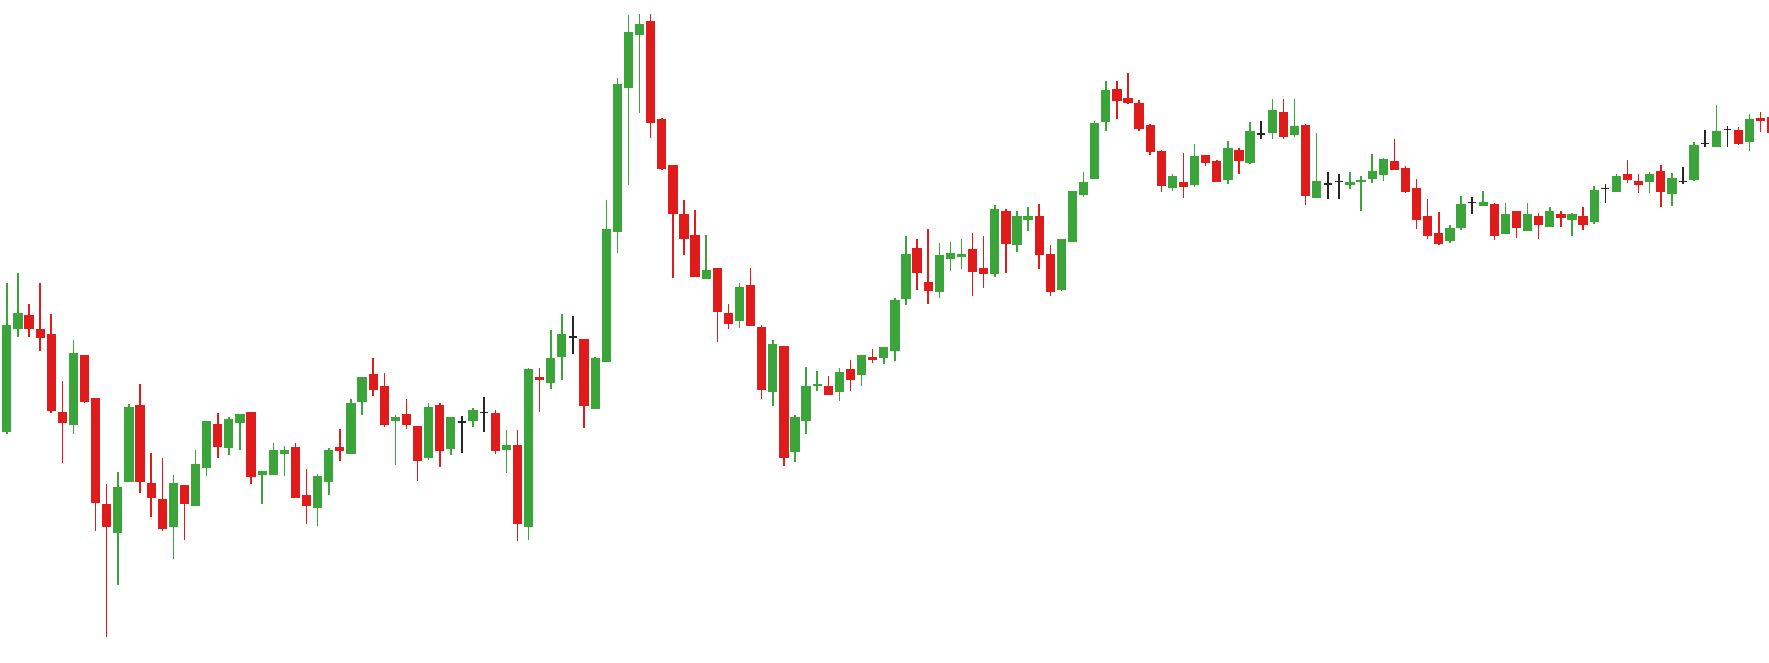buy: (301, 433, 537, 543), (988, 224, 1070, 299)
